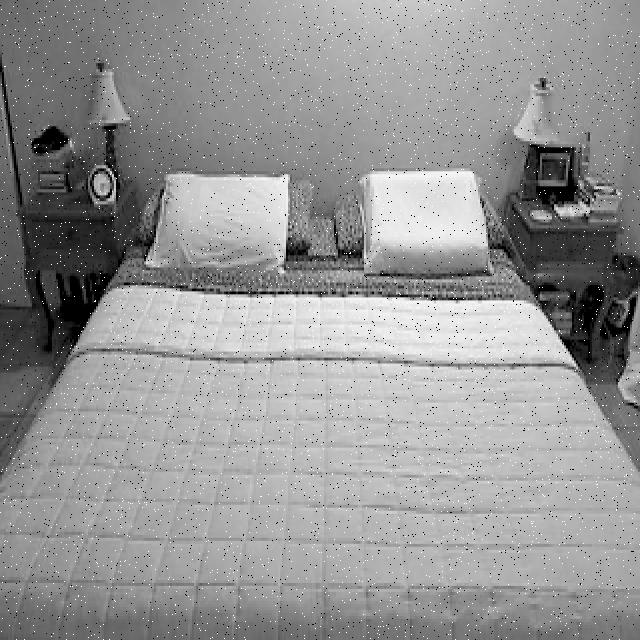bed: (27, 156, 628, 640)
